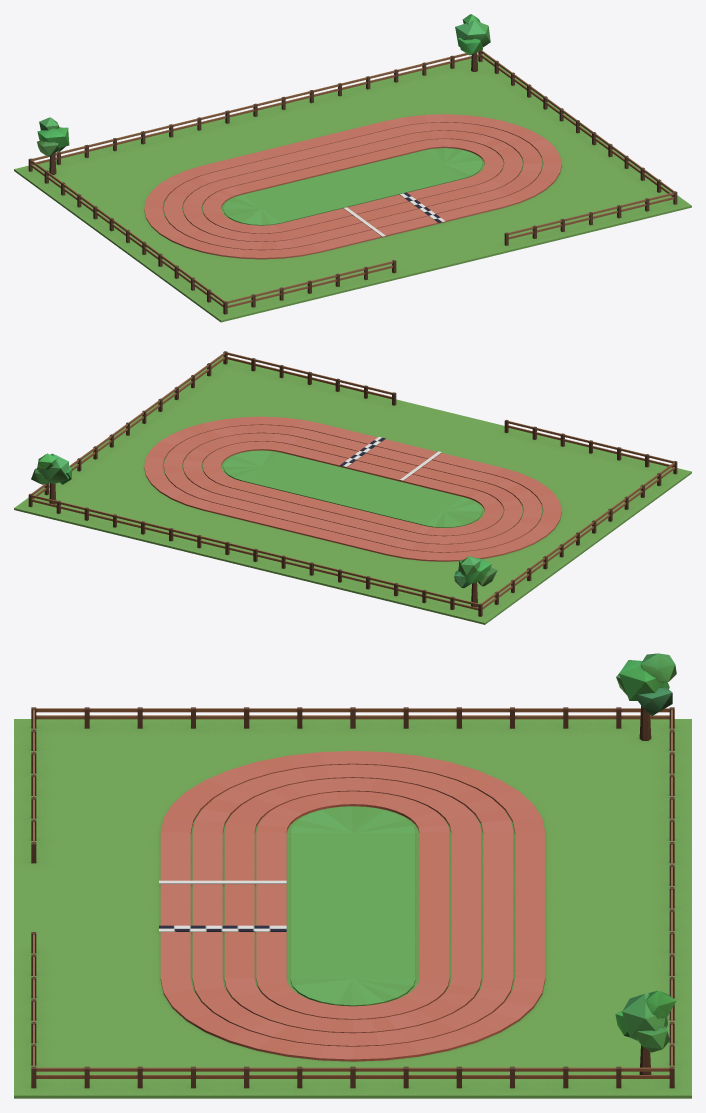
File: area_track_1_5.fbx
3 views of the same model, one above another, from view 1: azimuth 30°, elevation 25°; view 2: azimuth 150°, elevation 25°; view 3: azimuth 270°, elevation 25° (orthographic). The views are drawn at different scales.
Parts seen in each view (by area): view 1: area_track_1_5_body; view 2: area_track_1_5_body; view 3: area_track_1_5_body.
Part boxes in pixels (x1,y1,x2,y2): area_track_1_5_body: (14,14,691,322); area_track_1_5_body: (14,351,691,624); area_track_1_5_body: (14,653,691,1098).
Bounding box in the file's own units: 16750 × 1862 × 12750.
Materials: 1 (1 with a texture image).
